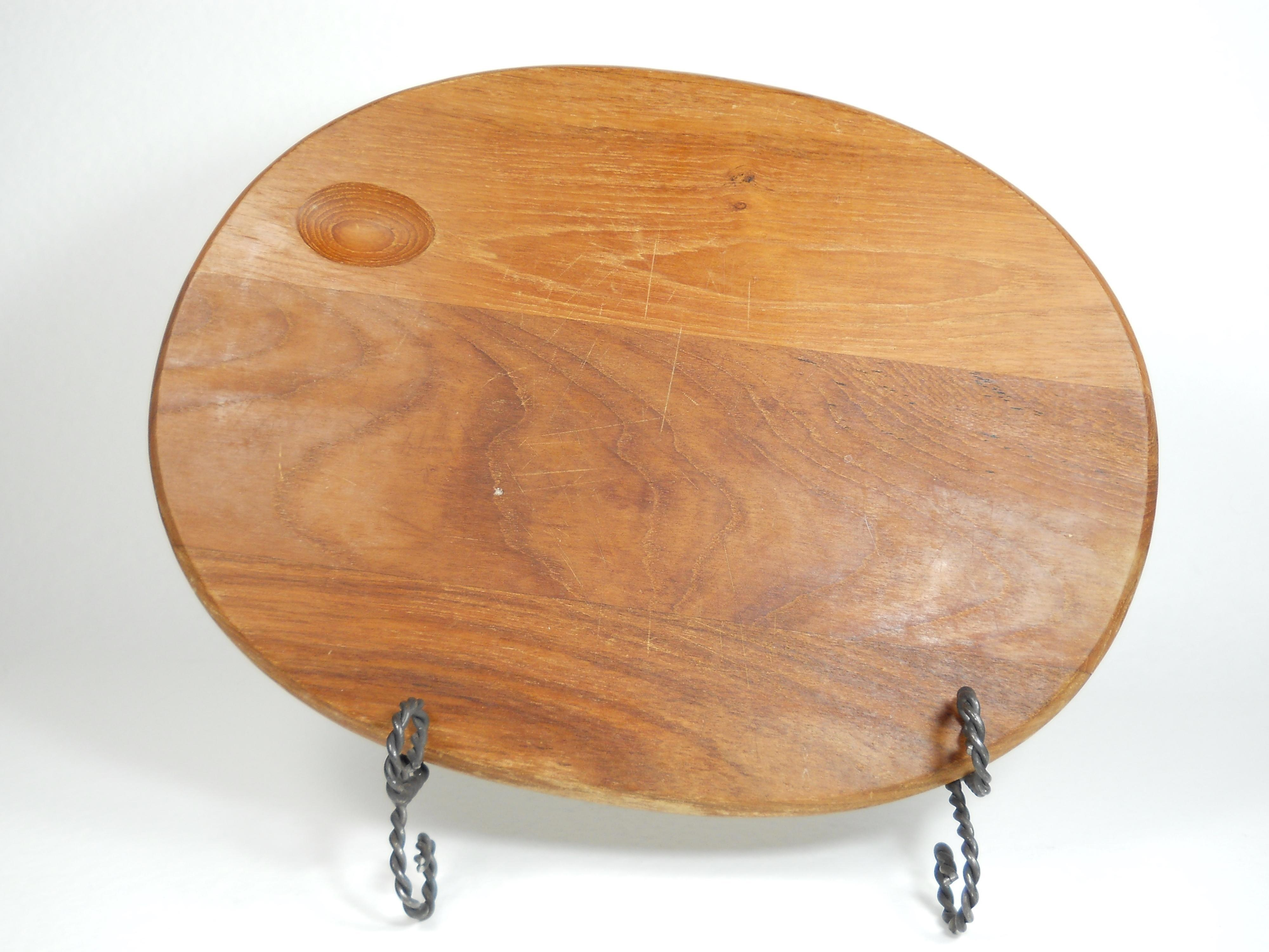gloved_hand: (121, 48, 1169, 820)
